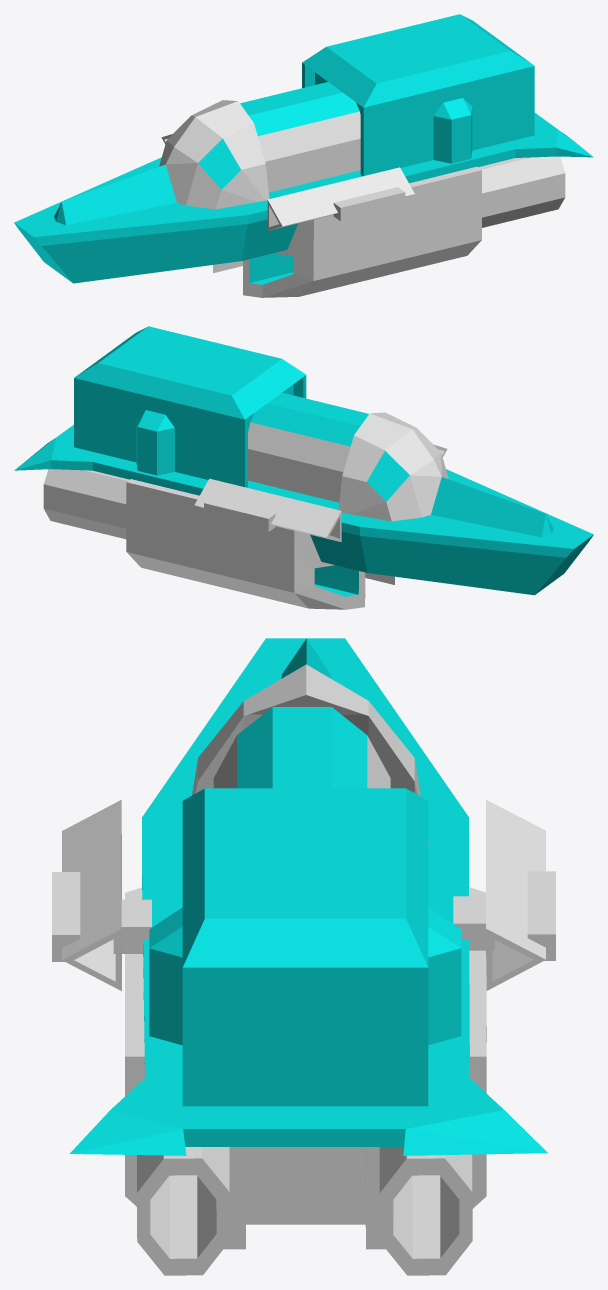
File: Light Speeder.fbx
3 renders of one model, top to bottom at view 1: azimuth 30°, elevation 25°; view 2: azimuth 150°, elevation 25°; view 3: azimuth 270°, elevation 25°, orthographic. The views are drawn at different scales.
Parts seen in each view (by area): view 1: polySurface164; view 2: polySurface164; view 3: polySurface164.
Boxes of the visible parts, left/top/right/bottom form: polySurface164: left=14, top=14, right=593, bottom=297; polySurface164: left=14, top=326, right=593, bottom=609; polySurface164: left=52, top=638, right=555, bottom=1275.
Size of the model in its own units: 29.48 by 10.38 by 12.56.
